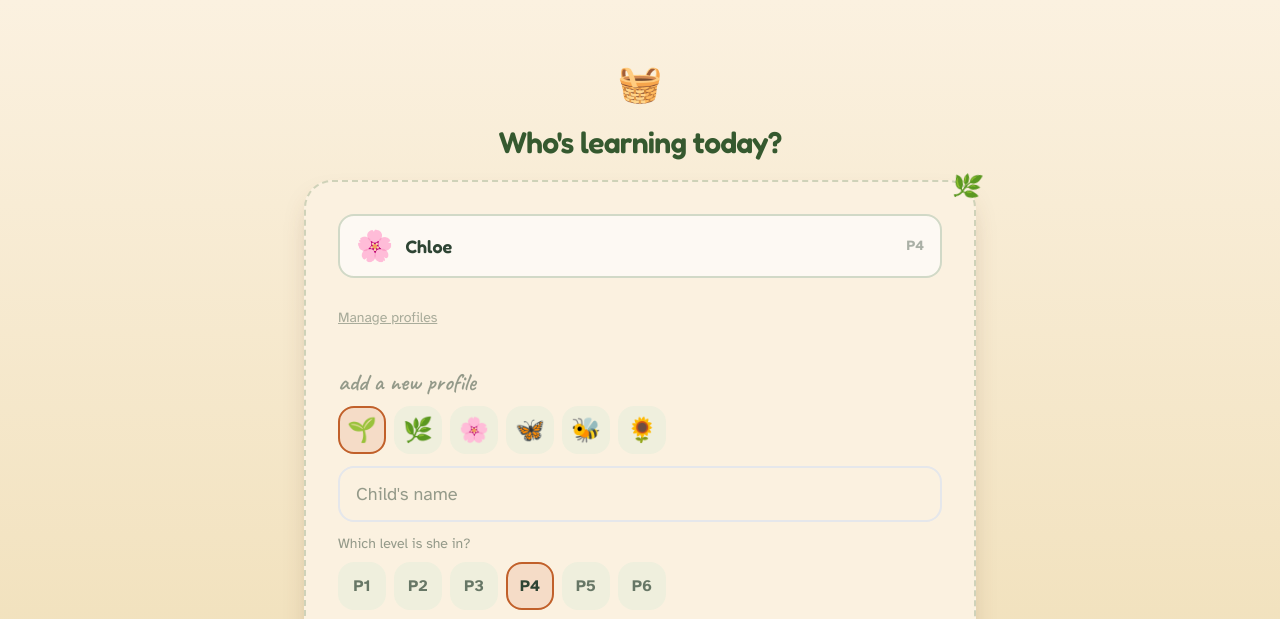
Test: ChildPicker › regression: editing a profile's name and avatar saves via updateChild and updates the displayed tile
Check: the text "Chloe" is shown, box [405,232,452,260]
Click the button "Manage profiles". click: (388, 318)
box: [338,294,437,342]
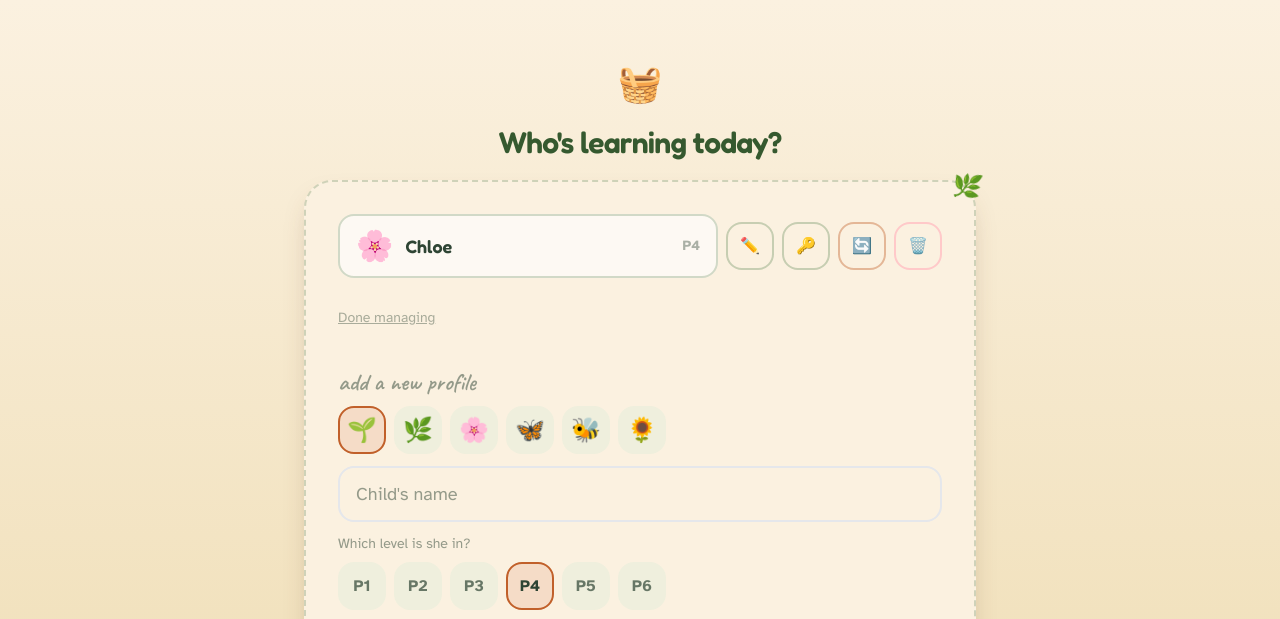
Click the button named "edit chloe". click: (750, 246)
box: [726,222,774,270]
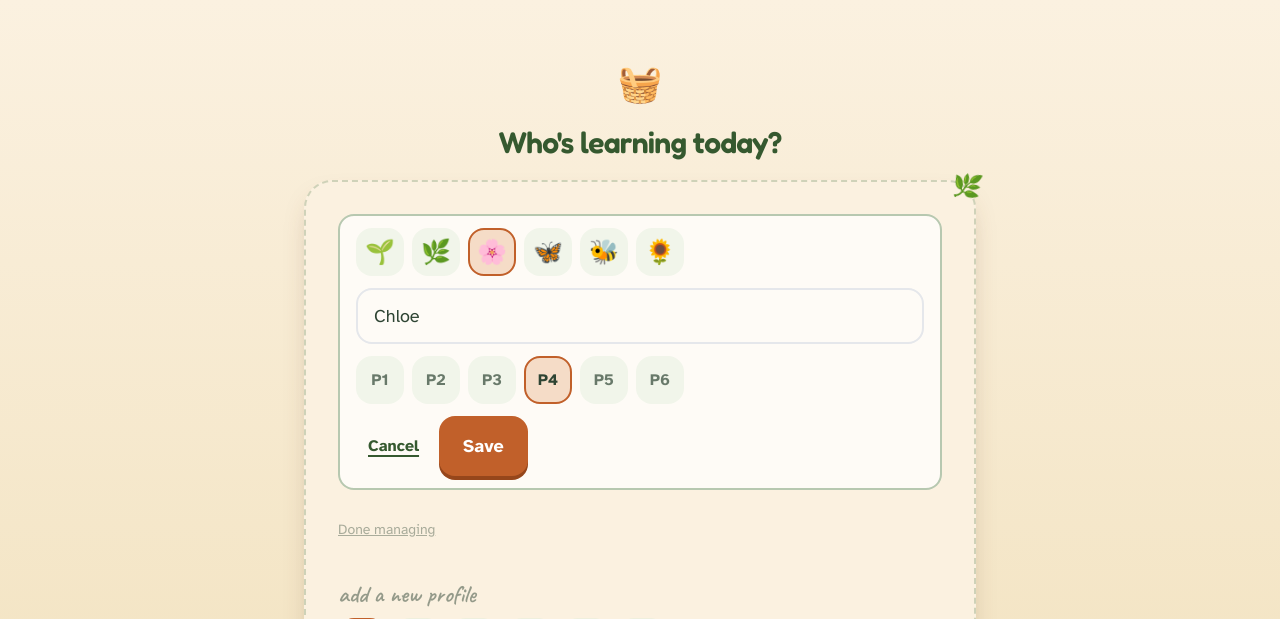
Replace the text in the field with placeholder "Child's name" with "Chloe Bear". click: (640, 316)
box: [356,288,924,344]
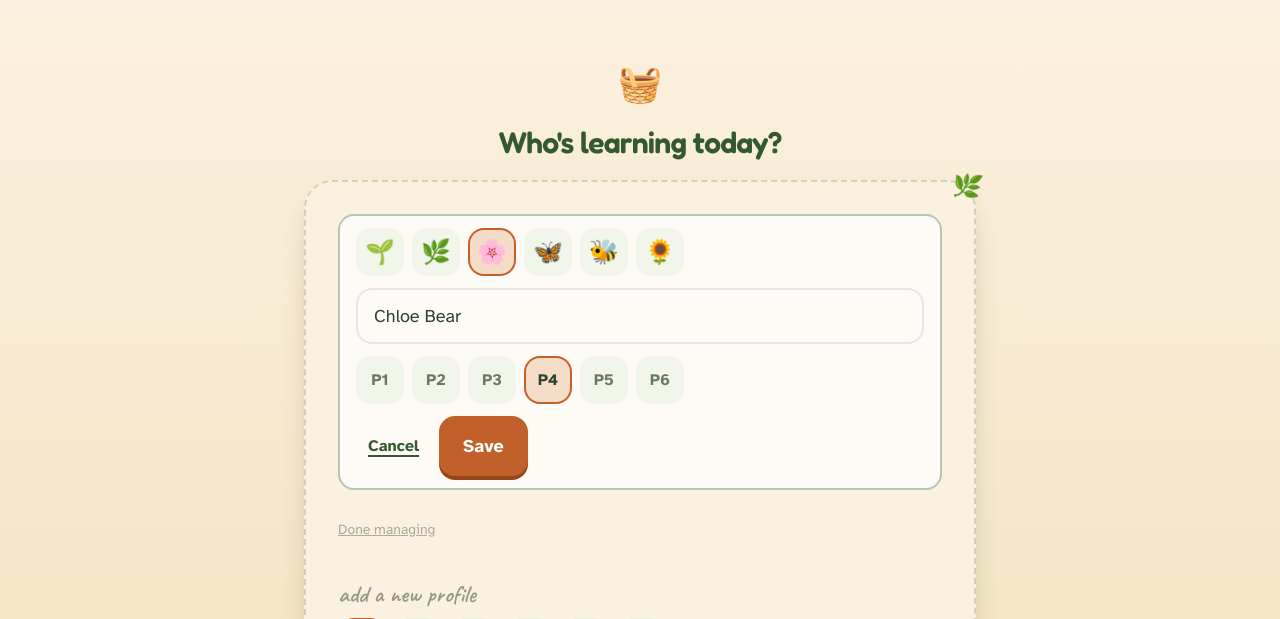
Click the button named "Choose 🦋". click: (548, 252)
box: [524,228,572,276]
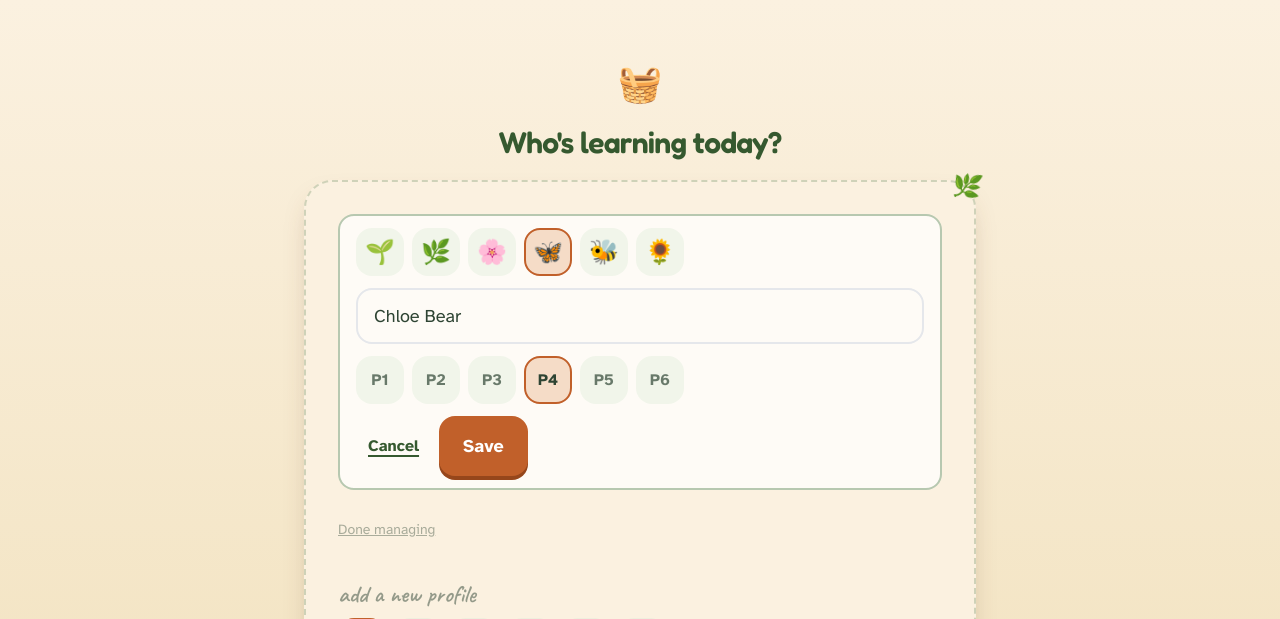
Click the button "Save". click: (483, 446)
box: [439,416,528,476]
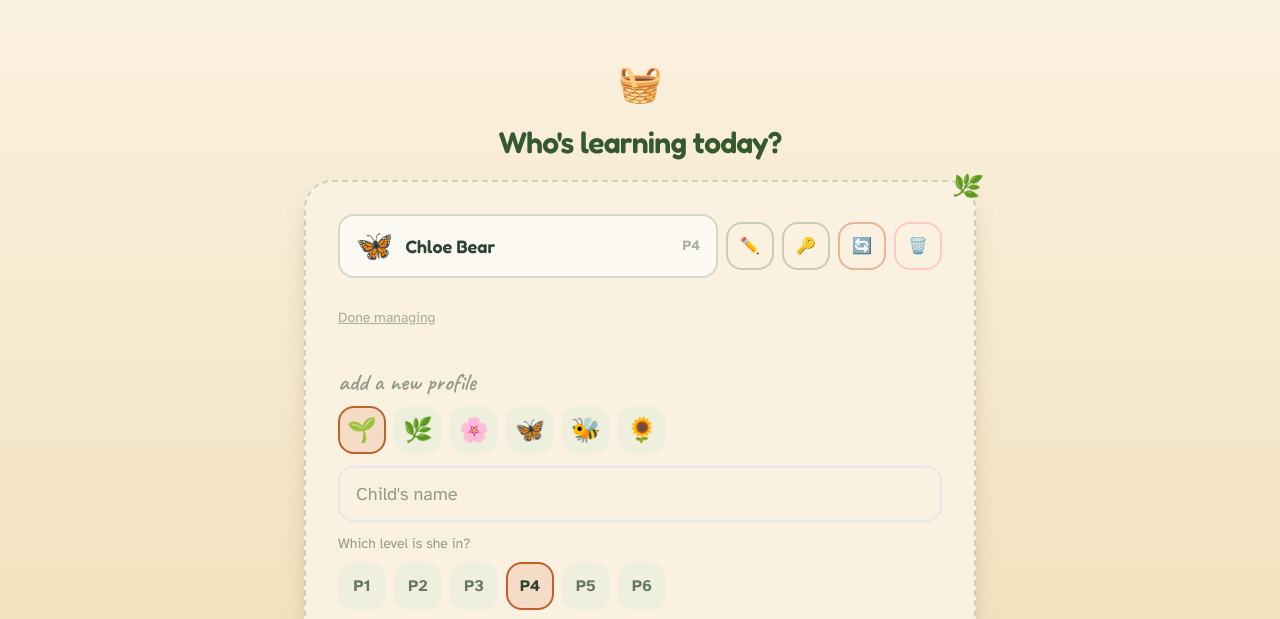
Check: the text "Chloe Bear" is shown, box [405,232,495,260]
